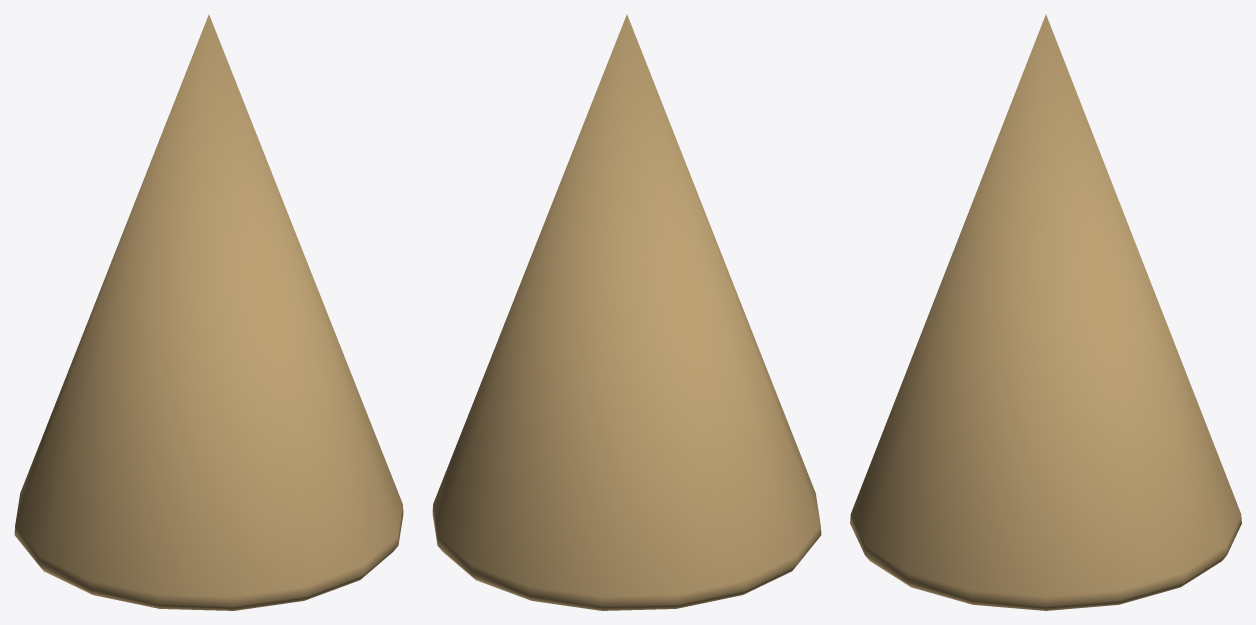
Rendered from SM_HC2_BeatShard_034.fbx.
3 renders of one model, left to right at view 1: azimuth 30°, elevation 25°; view 2: azimuth 150°, elevation 25°; view 3: azimuth 270°, elevation 25°, orthographic.
Parts seen in each view (by area): view 1: SM_HC2_BeatShard_034; view 2: SM_HC2_BeatShard_034; view 3: SM_HC2_BeatShard_034.
Boxes of the visible parts, x1,y1,x2,y2 form: SM_HC2_BeatShard_034: [14, 14, 403, 610]; SM_HC2_BeatShard_034: [432, 14, 821, 610]; SM_HC2_BeatShard_034: [850, 14, 1241, 610].
Size of the model in its own units: 44.48 by 44.48 by 65.
